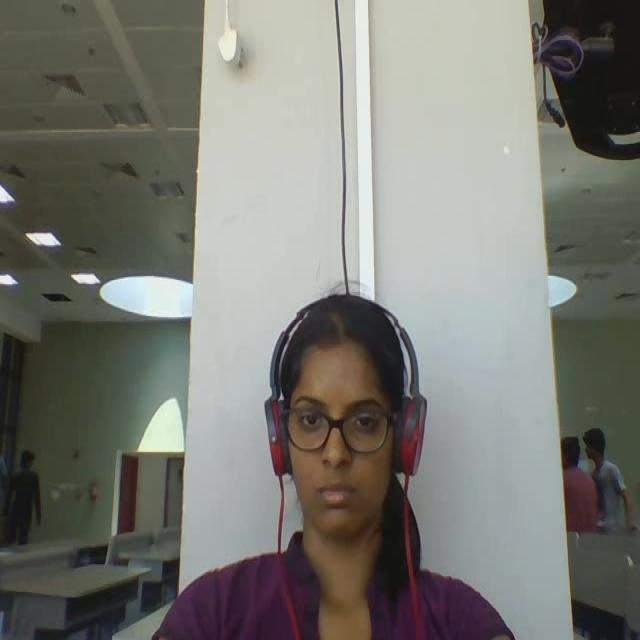Engaged: (249, 263, 436, 560)
